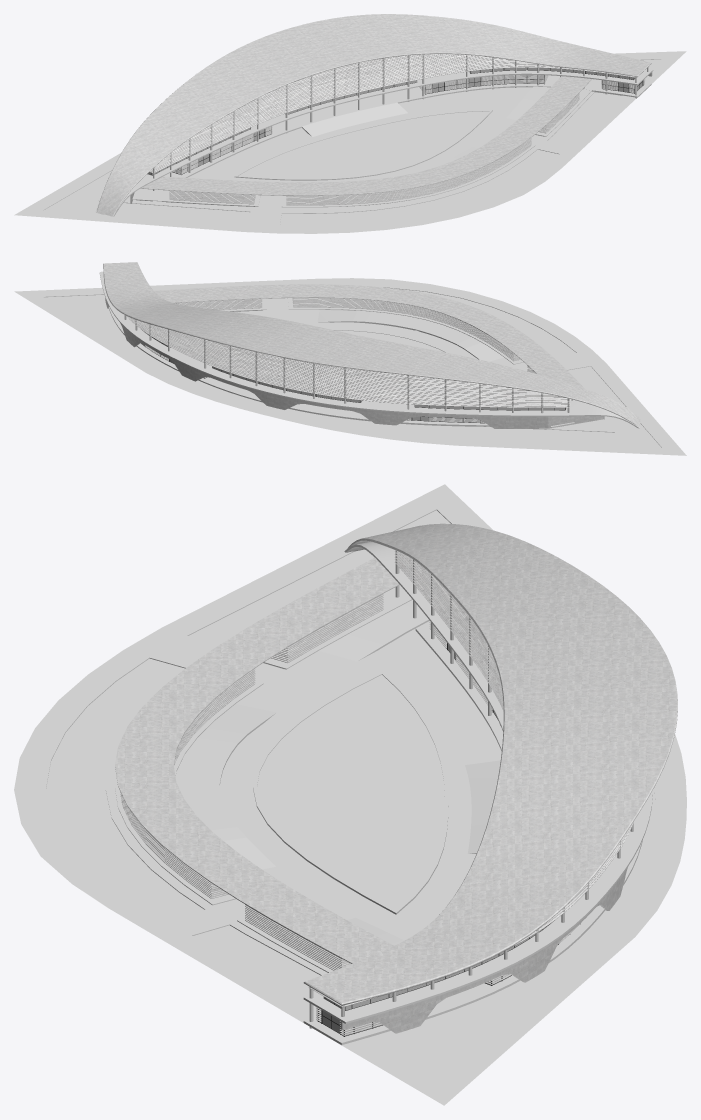
Rendered from KB3D_UTP_BldgMD_I.fbx.
The picture shows the model from 3 angles, top to bottom: view 1: azimuth 30°, elevation 25°; view 2: azimuth 150°, elevation 25°; view 3: azimuth 270°, elevation 25°; orthographic projection. The views are drawn at different scales.
Parts seen in each view (by area): view 1: KB3D_UTP_BldgMD_I_Main, KB3D_UTP_BldgMD_I_Base, KB3D_UTP_BldgMD_I_BuildingA; view 2: KB3D_UTP_BldgMD_I_Main, KB3D_UTP_BldgMD_I_Base, KB3D_UTP_BldgMD_I_BuildingA; view 3: KB3D_UTP_BldgMD_I_Base, KB3D_UTP_BldgMD_I_Main, KB3D_UTP_BldgMD_I_BuildingA.
Boxes of the visible parts, bbox=[...] form: KB3D_UTP_BldgMD_I_Main: bbox=[95, 14, 653, 216]; KB3D_UTP_BldgMD_I_Base: bbox=[14, 51, 686, 233]; KB3D_UTP_BldgMD_I_BuildingA: bbox=[132, 76, 591, 207]; KB3D_UTP_BldgMD_I_Main: bbox=[99, 262, 640, 429]; KB3D_UTP_BldgMD_I_Base: bbox=[14, 278, 686, 455]; KB3D_UTP_BldgMD_I_BuildingA: bbox=[154, 284, 584, 427]; KB3D_UTP_BldgMD_I_Base: bbox=[14, 484, 686, 1105]; KB3D_UTP_BldgMD_I_Main: bbox=[303, 523, 677, 1045]; KB3D_UTP_BldgMD_I_BuildingA: bbox=[115, 557, 429, 972].
Size of the model in its own units: 40066 by 3551 by 18331.
